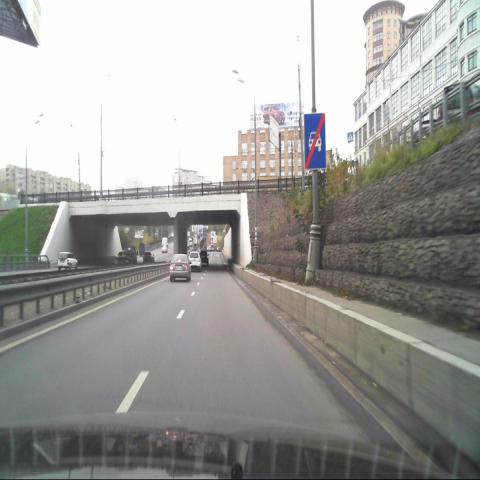5_4: (304, 114, 326, 170)
